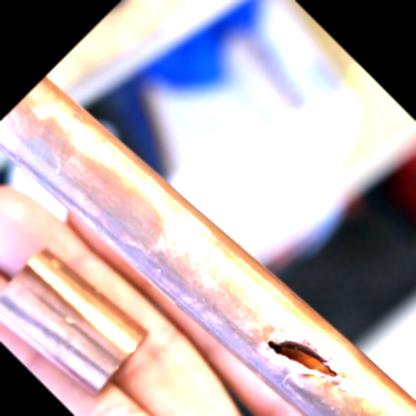burst: (264, 331, 349, 386)
